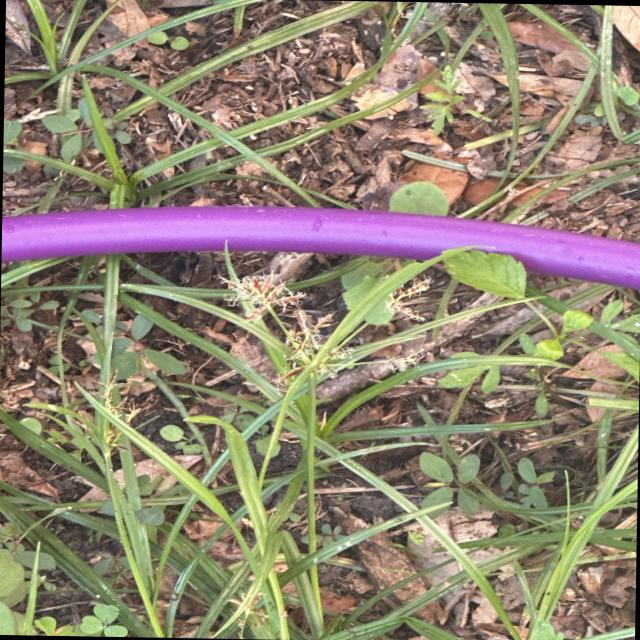cyperus: (209, 252, 445, 398)
